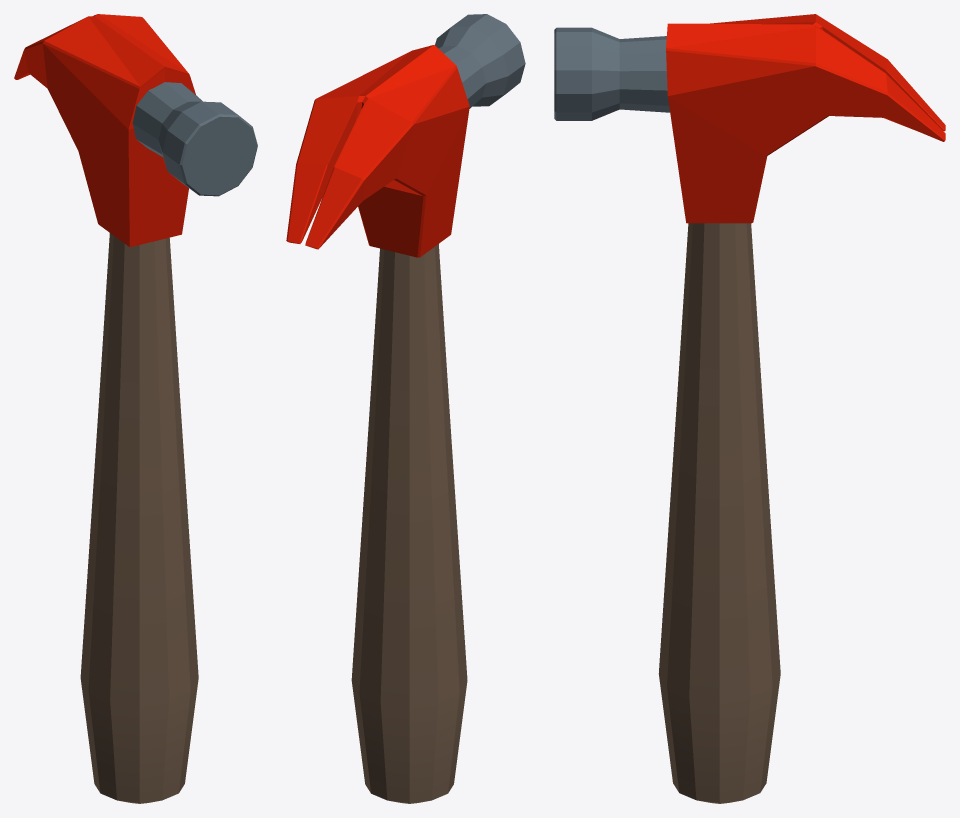
File: hammer.fbx
3 renders of one model, left to right at view 1: azimuth 30°, elevation 25°; view 2: azimuth 150°, elevation 25°; view 3: azimuth 270°, elevation 25°, orthographic. The views are drawn at different scales.
Parts seen in each view (by area): view 1: hammer; view 2: hammer; view 3: hammer.
Part boxes in pixels (x1,y1,x2,y2): hammer: (14, 14, 257, 803); hammer: (286, 14, 525, 803); hammer: (554, 14, 945, 803).
Bounding box in the file's own units: 0.1755 × 1.23 × 0.5628.
